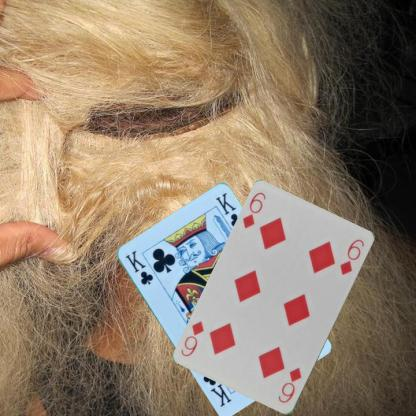6d: (240, 189, 267, 230), (275, 365, 302, 405)
Kc: (122, 247, 154, 286)
